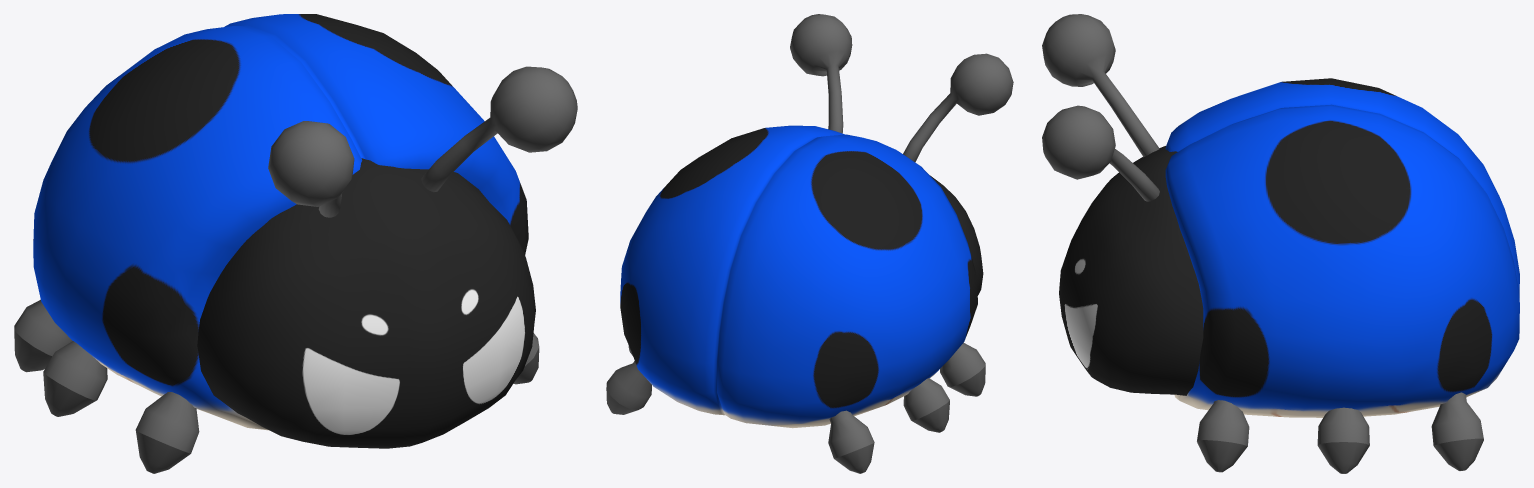
Rendered from ladybug_blue.fbx.
3 views of the same model, side by side, from view 1: azimuth 30°, elevation 25°; view 2: azimuth 150°, elevation 25°; view 3: azimuth 270°, elevation 25° (orthographic). The views are drawn at different scales.
Visible parts, largest first — view 1: bd, hd, ant, lg; view 2: bd, ant, lg, hd; view 3: bd, hd, ant, lg.
Part boxes in pixels (x1=…): bd: x1=33, y1=14, x2=528, y2=430; hd: x1=197, y1=158, x2=535, y2=448; ant: x1=268, y1=66, x2=577, y2=217; lg: x1=14, y1=299, x2=539, y2=473; bd: x1=620, y1=125, x2=977, y2=428; ant: x1=790, y1=14, x2=1013, y2=162; lg: x1=606, y1=342, x2=985, y2=473; hd: x1=930, y1=175, x2=983, y2=295; bd: x1=1165, y1=78, x2=1519, y2=417; hd: x1=1059, y1=146, x2=1203, y2=395; ant: x1=1042, y1=14, x2=1159, y2=201; lg: x1=1197, y1=392, x2=1483, y2=473.
Size of the model in its own units: 115 by 100 by 129.
3 materials, 2 textured.
